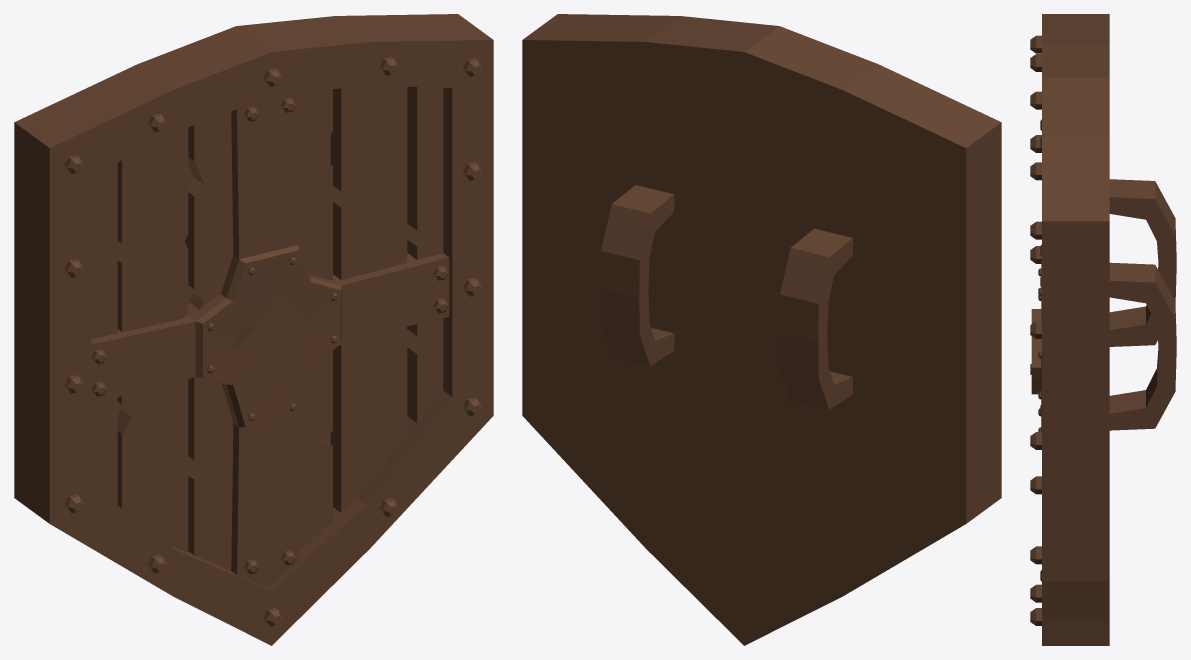
File: Shield_Heater.glb
3 views of the same model, side by side, from view 1: azimuth 30°, elevation 25°; view 2: azimuth 150°, elevation 25°; view 3: azimuth 270°, elevation 25° (orthographic). The views are drawn at different scales.
Bounding box in the file's own units: 2.01 × 2.56 × 0.597.
